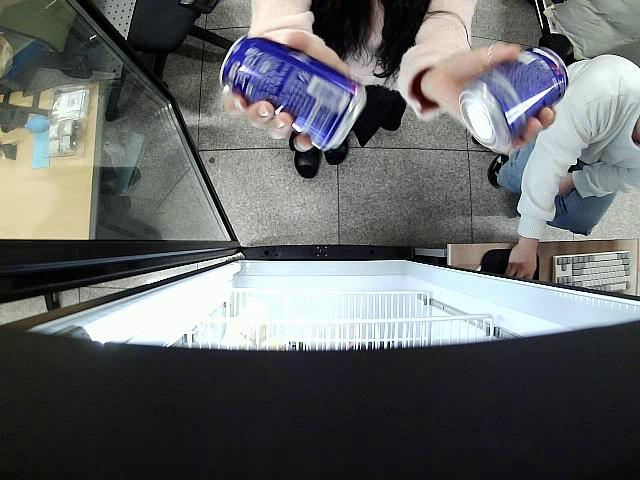00_hand: (224, 26, 354, 151), (439, 43, 556, 150)
14_welchsGrape: (219, 34, 365, 152), (460, 44, 568, 152)
